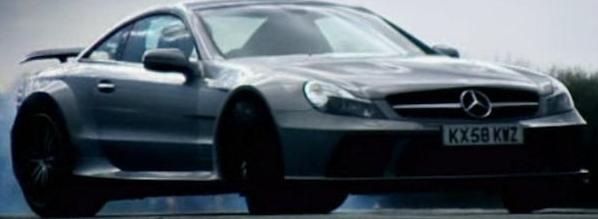front_view: (298, 68, 585, 187)
headlight: (294, 79, 383, 123)
side_glass: (97, 11, 211, 76)
